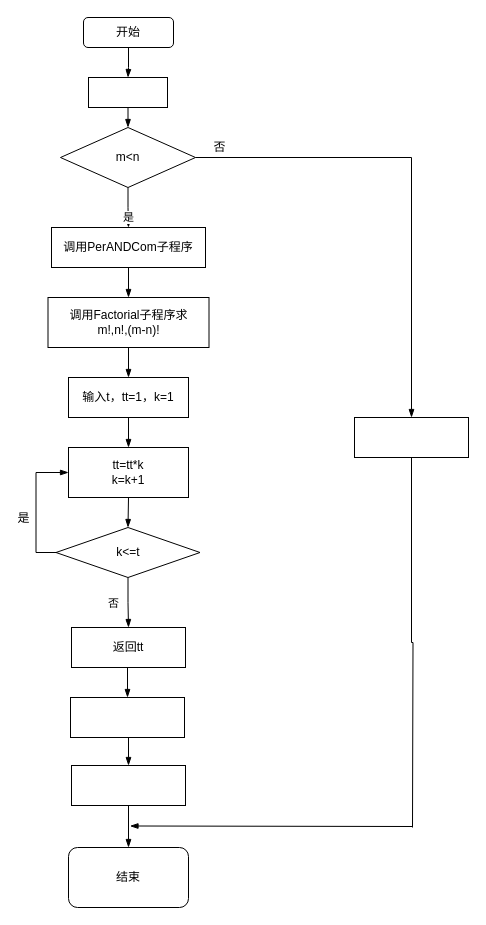
The diagram is 486 pixels wide and 925 high, and some of its shapes have lost their labels. Each missing label, with the centre of its shape:
"P=n! / (n-m)! C=n! / (m!(n-m)!)" belongs at pixel 127 717.
"屏幕输出 “Wrong Number”" belongs at pixel 411 437.
"屏幕输出P,C" belongs at pixel 128 785.
"输入m，n" belongs at pixel 128 92.
